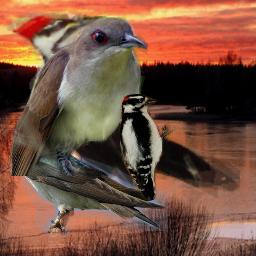Cuckoo: (10, 17, 148, 176)
Swallow: (18, 128, 168, 237)
Woodpecker: (7, 13, 240, 215), (120, 94, 175, 200)
